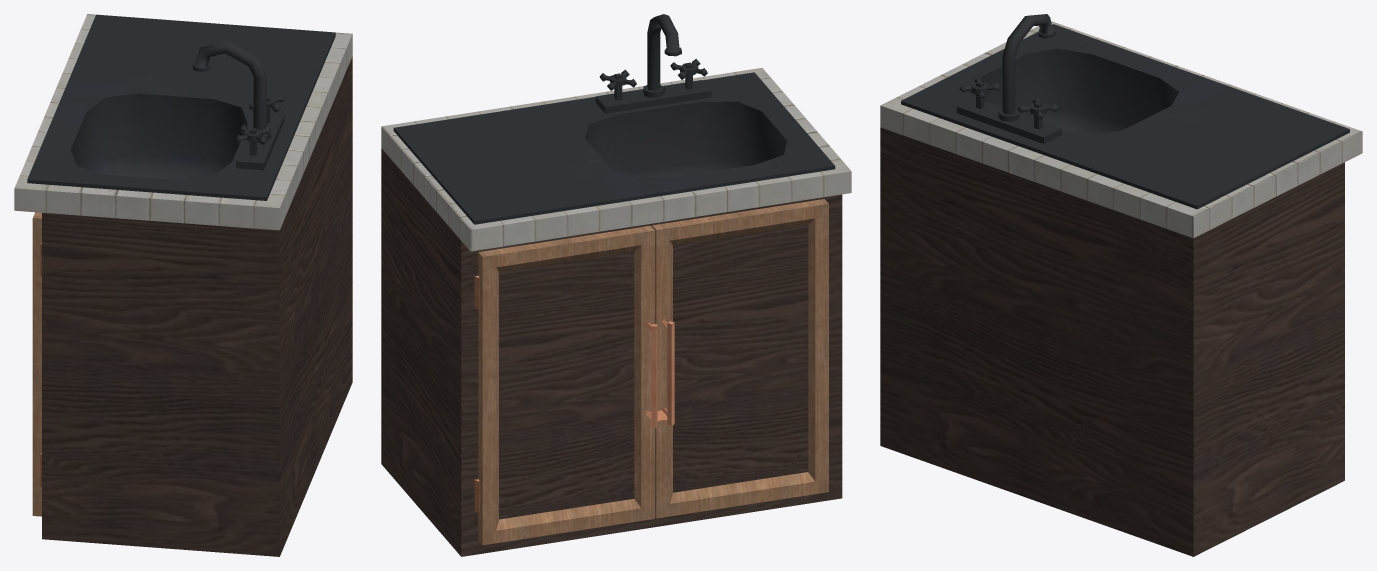
The picture shows the model from 3 angles, left to right: view 1: azimuth 30°, elevation 25°; view 2: azimuth 150°, elevation 25°; view 3: azimuth 270°, elevation 25°; orthographic projection. The views are drawn at different scales.
Visible parts, largest first — view 1: Cube056_Wood_05001_0, Cube056_Metal_04001_0, Cube056_Tiles001_0, Cube058_Wood_02001_0; view 2: Cube056_Metal_04001_0, Cube056_Wood_05001_0, Cube057_Wood_05001_0, Cube058_Wood_05001_0, Cube057_Wood_02001_0, Cube058_Wood_02001_0, Cube056_Tiles001_0, Cube057_Metal_06001_0, Cube058_Metal_06001_0; view 3: Cube056_Wood_05001_0, Cube056_Metal_04001_0, Cube056_Tiles001_0.
Boxes of the visible parts, x1,y1,x2,y2 form: Cube056_Wood_05001_0: (42,56,352,556); Cube056_Metal_04001_0: (27,14,335,200); Cube056_Tiles001_0: (14,14,352,230); Cube058_Wood_02001_0: (32,212,41,516); Cube056_Metal_04001_0: (393,14,835,226); Cube056_Wood_05001_0: (381,148,842,556); Cube057_Wood_05001_0: (499,251,634,519); Cube058_Wood_05001_0: (673,224,808,492); Cube057_Wood_02001_0: (478,225,654,545); Cube058_Wood_02001_0: (652,199,828,518); Cube056_Tiles001_0: (381,67,851,251); Cube057_Metal_06001_0: (474,276,667,513); Cube058_Metal_06001_0: (647,319,674,425); Cube056_Wood_05001_0: (880,127,1344,556); Cube056_Metal_04001_0: (901,14,1349,209); Cube056_Tiles001_0: (880,21,1362,238).
Size of the model in its own units: 1.21 by 1.27 by 1.26.
Materials: 5 (5 with a texture image).
